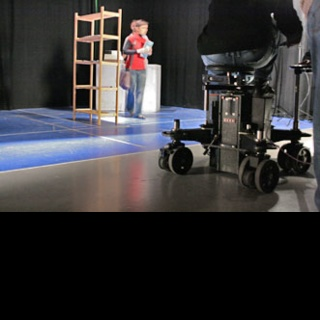without_mask: (134, 21, 148, 35)
